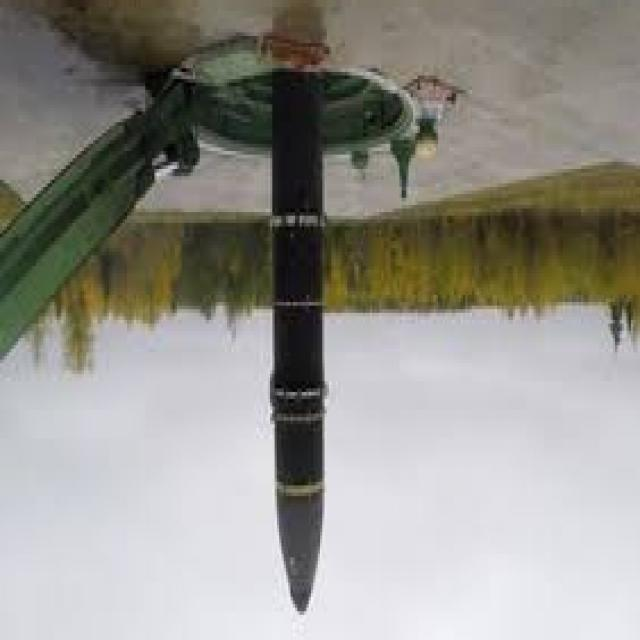Missile: (266, 75, 334, 618)
